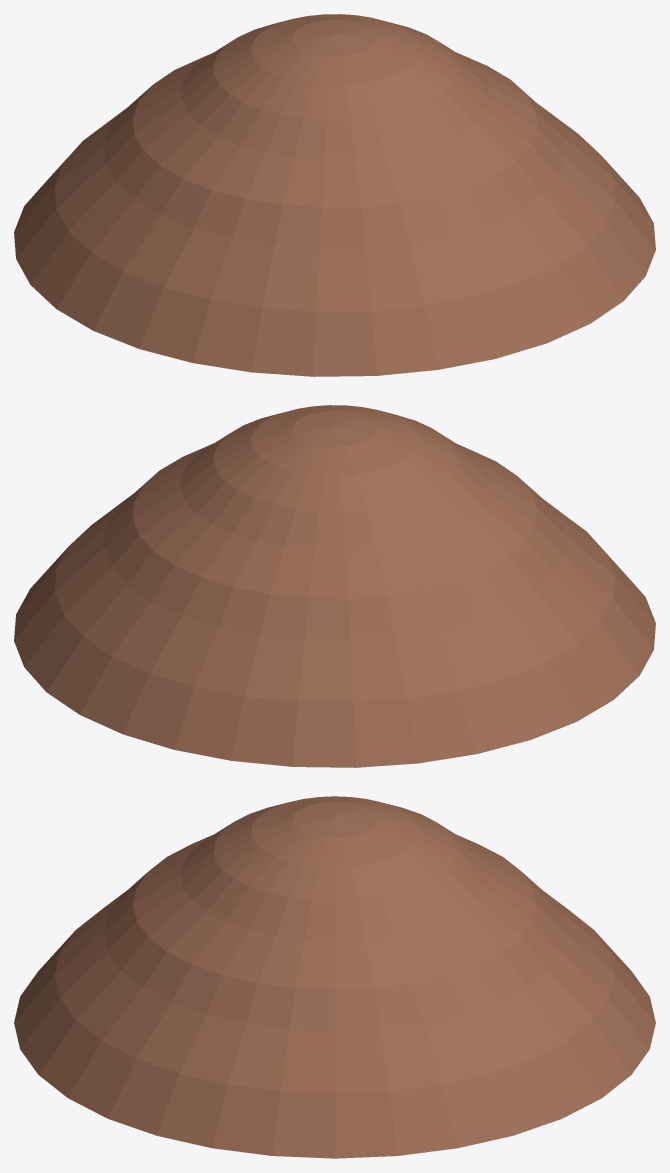
File: ApplePaste.fbx
3 views of the same model, one above another, from view 1: azimuth 30°, elevation 25°; view 2: azimuth 150°, elevation 25°; view 3: azimuth 270°, elevation 25° (orthographic).
Parts seen in each view (by area): view 1: 球; view 2: 球; view 3: 球.
Boxes of the visible parts, x1,y1,x2,y2 form: 球: (14, 14, 655, 376); 球: (14, 405, 655, 767); 球: (14, 796, 655, 1158).
Bounding box in the file's own units: 267 × 94.83 × 267.
